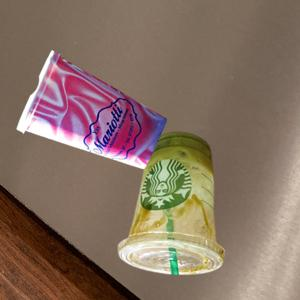cup: (119, 134, 222, 276)
